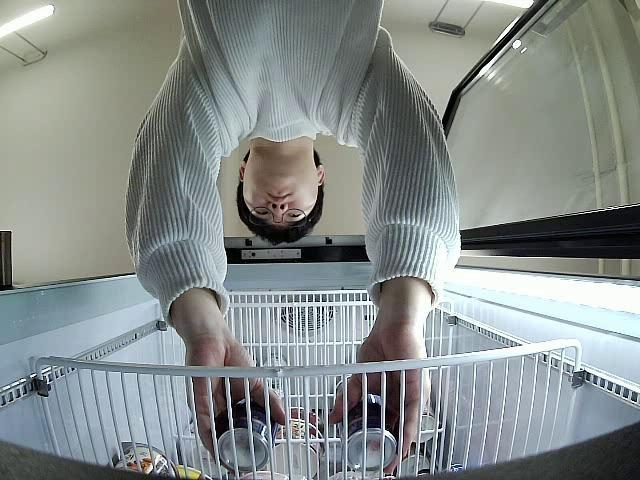16_hot6: (213, 386, 280, 475), (336, 376, 398, 471)
